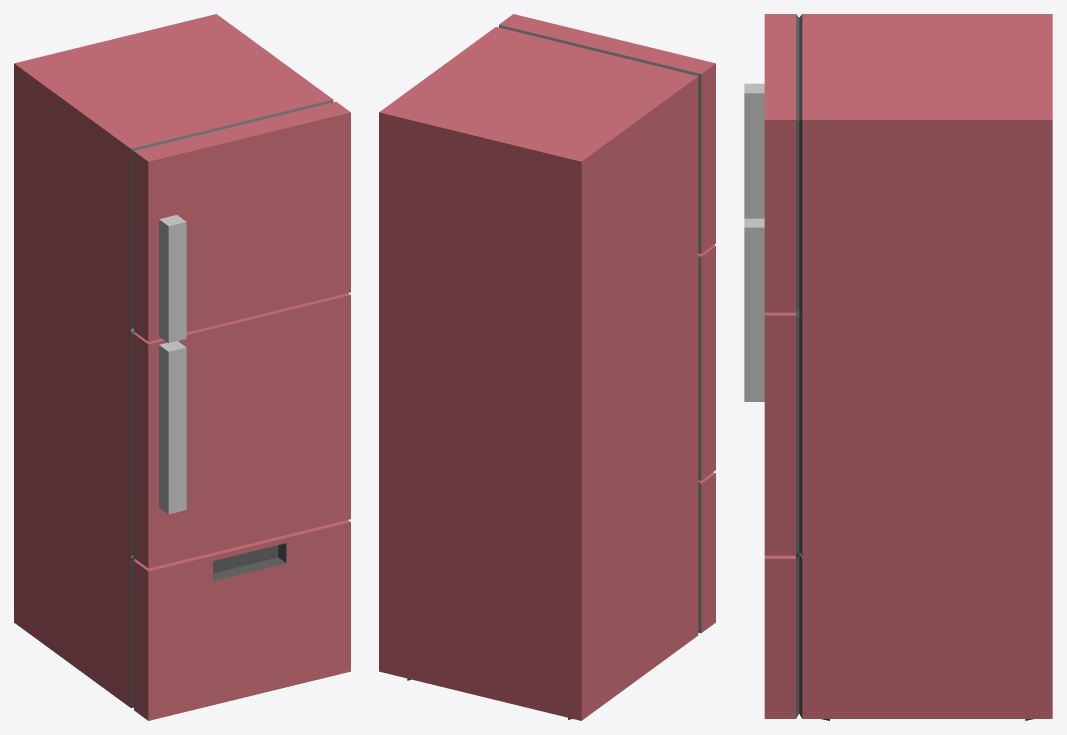
The model's file is Refrigerator12.fbx.
3 views of the same model, side by side, from view 1: azimuth 30°, elevation 25°; view 2: azimuth 150°, elevation 25°; view 3: azimuth 270°, elevation 25° (orthographic). The views are drawn at different scales.
Visible parts, largest first — view 1: Cube; view 2: Cube; view 3: Cube.
Part boxes in pixels (x1,y1,x2,y2): Cube: (14, 14, 350, 720); Cube: (379, 14, 715, 720); Cube: (744, 14, 1052, 720).
Bounding box in the file's own units: 1 × 2.69 × 1.23.
